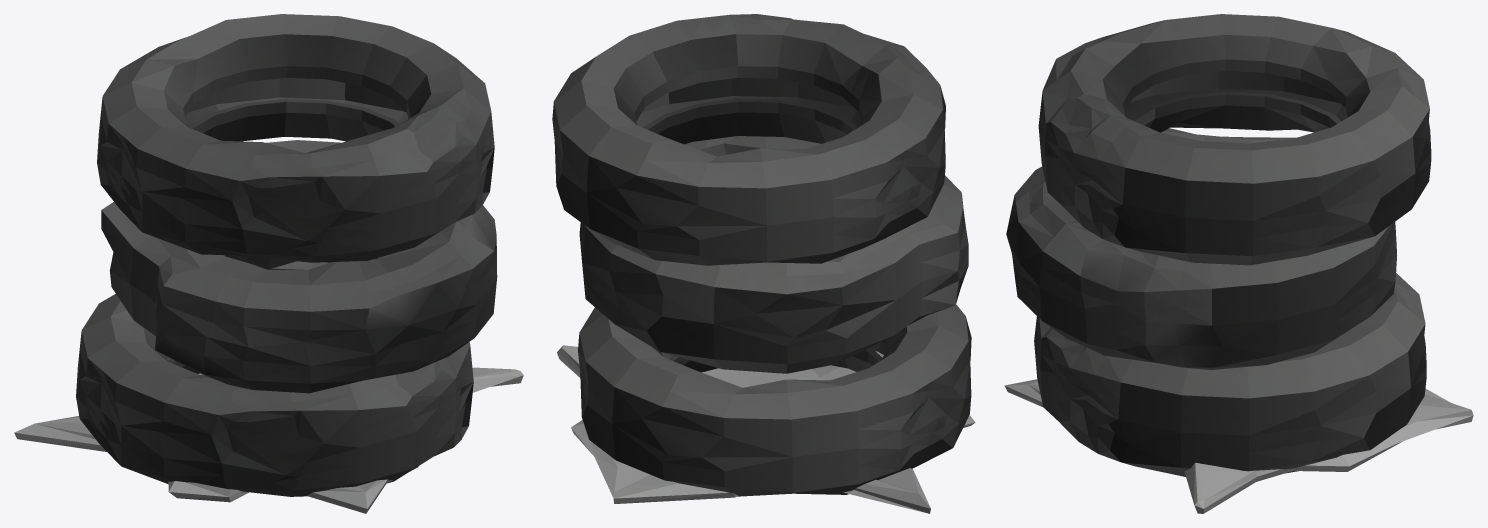
File: tire_clsuter_3.obj
The picture shows the model from 3 angles, left to right: view 1: azimuth 30°, elevation 25°; view 2: azimuth 150°, elevation 25°; view 3: azimuth 270°, elevation 25°; orthographic projection.
Visible parts, largest first — view 1: tire_clsuter_3_Mesh; view 2: tire_clsuter_3_Mesh; view 3: tire_clsuter_3_Mesh.
Boxes of the visible parts, x1,y1,x2,y2 form: tire_clsuter_3_Mesh: (14,14,523,513); tire_clsuter_3_Mesh: (552,14,975,513); tire_clsuter_3_Mesh: (1004,14,1473,513).
Size of the model in its own units: 1.48 by 1.12 by 1.37.
